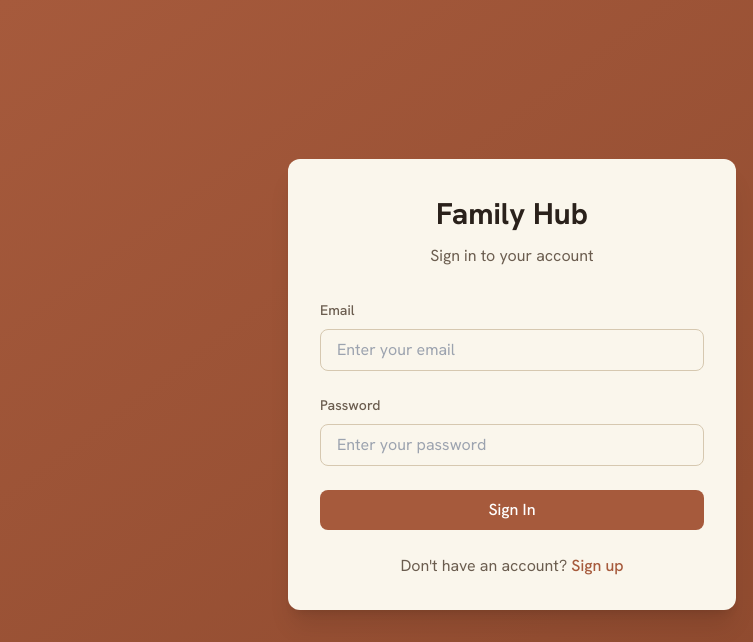
Authentication Pages › Login Page › should disable the submit button while logging in
Type "test@example.com" into the field with placeholder "Enter your email".
click(512, 350); type("test@example.com")  # box left=320, top=328, right=704, bottom=370
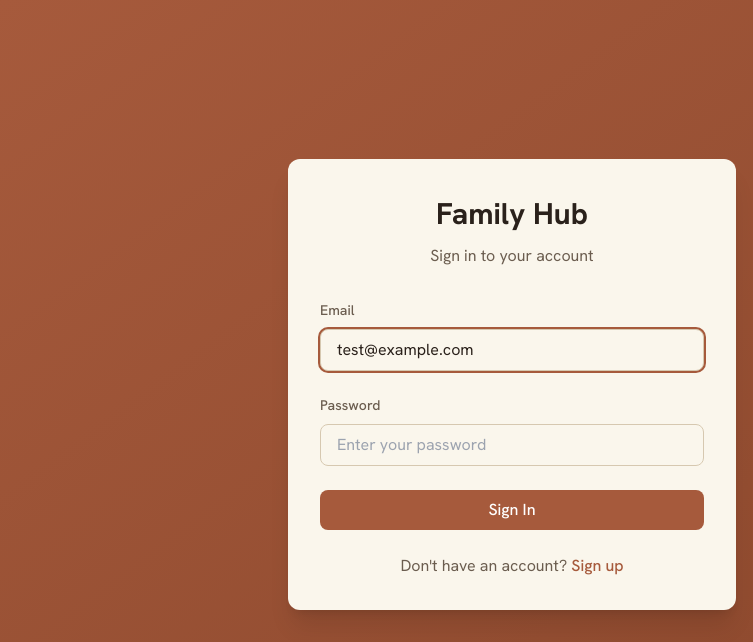
Type "password123" into the password field with placeholder "Enter your password".
click(512, 444); type("password123")  # box left=320, top=424, right=704, bottom=466
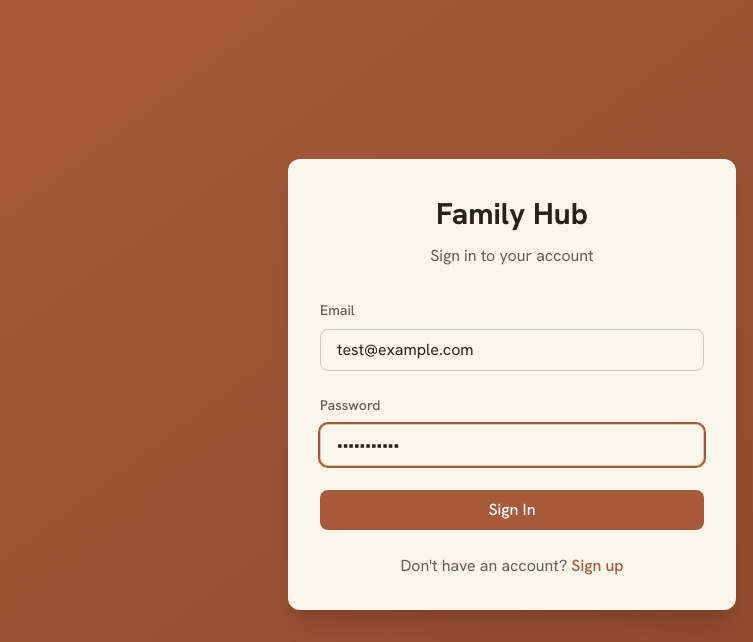
Click the button "Sign In".
click(512, 510)  # box left=320, top=490, right=704, bottom=530
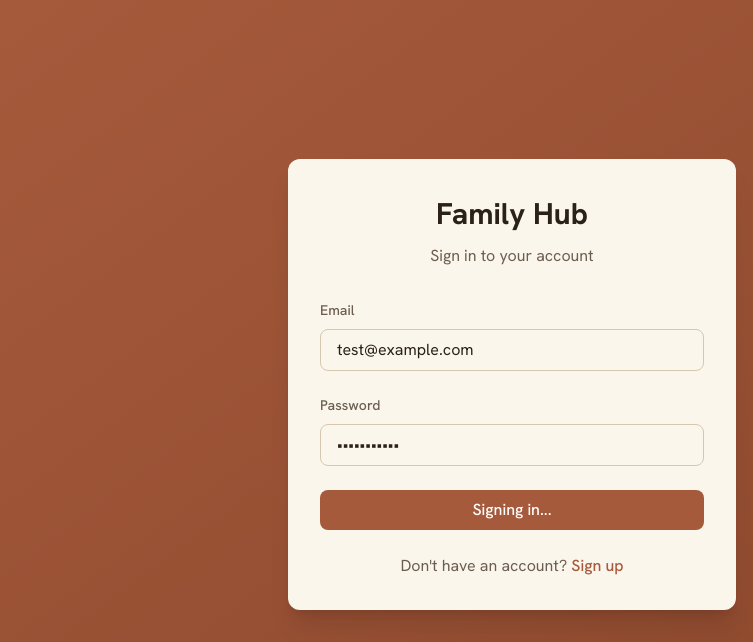
Check: the button "Signing in..." is disabled, box left=320, top=490, right=704, bottom=530
